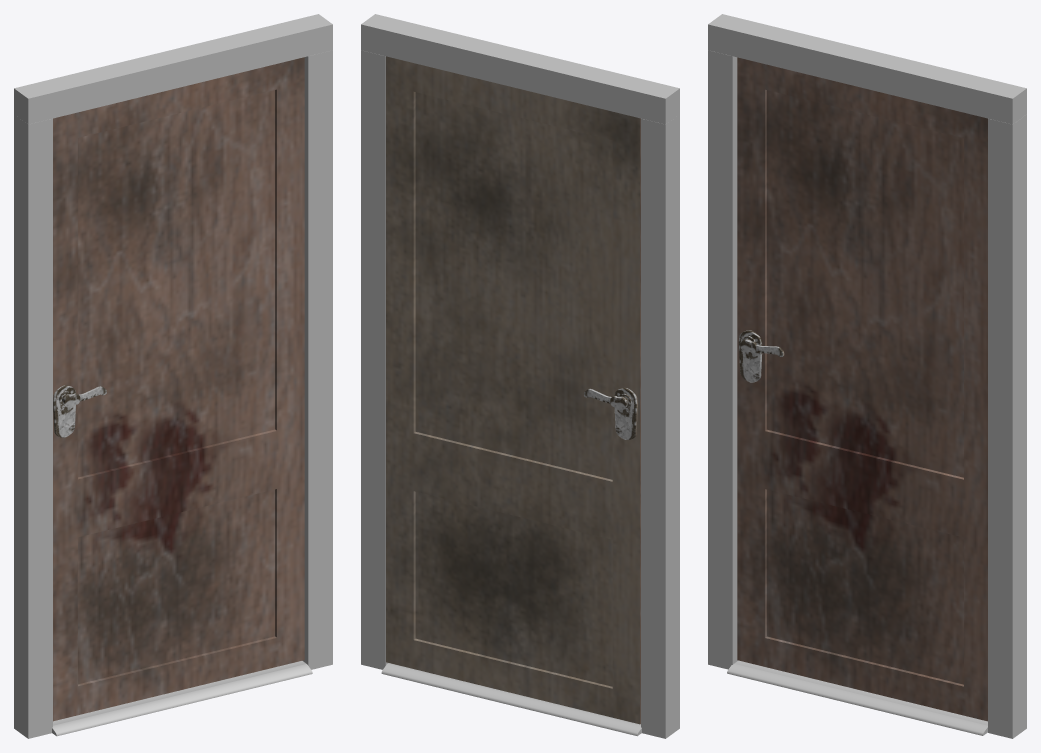
The model's file is DoorThirdVariation.fbx.
3 views of the same model, side by side, from view 1: azimuth 30°, elevation 25°; view 2: azimuth 150°, elevation 25°; view 3: azimuth 330°, elevation 25° (orthographic).
Visible parts, largest first — view 1: Door.001, Door; view 2: Door.001, Door; view 3: Door.001, Door.
Boxes of the visible parts, x1,y1,x2,y2 form: Door.001: [53, 57, 304, 721]; Door: [14, 14, 332, 738]; Door.001: [386, 56, 640, 724]; Door: [361, 14, 679, 738]; Door.001: [737, 57, 987, 721]; Door: [708, 14, 1026, 738].
Bounding box in the file's own units: 132 × 265 × 18.23.
2 materials, 1 textured.
